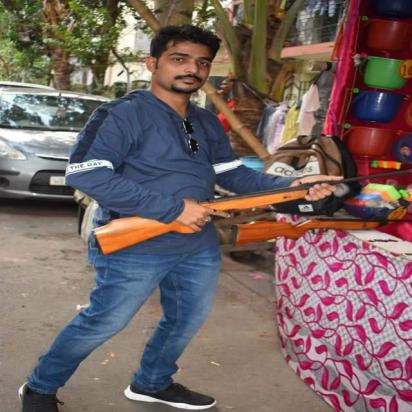Gun: (88, 168, 412, 258), (226, 215, 412, 249)
